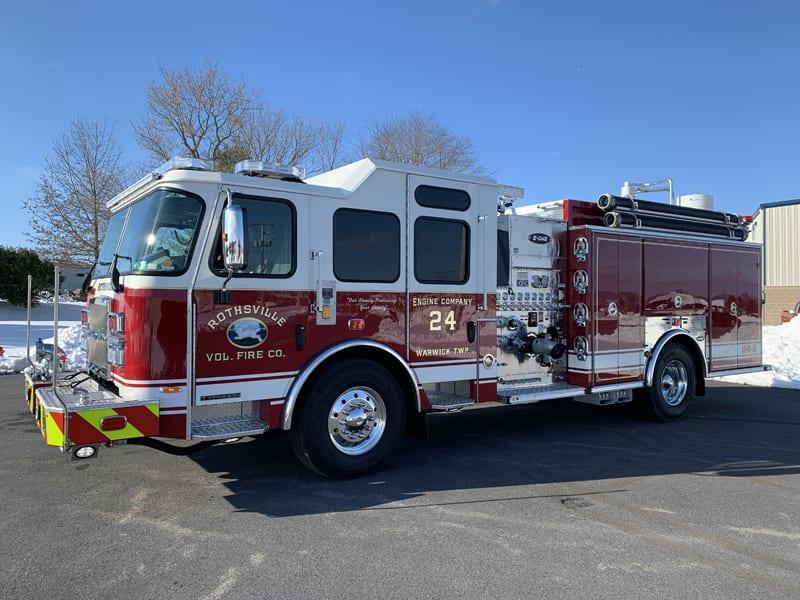Fire-engine: (22, 154, 772, 480)
